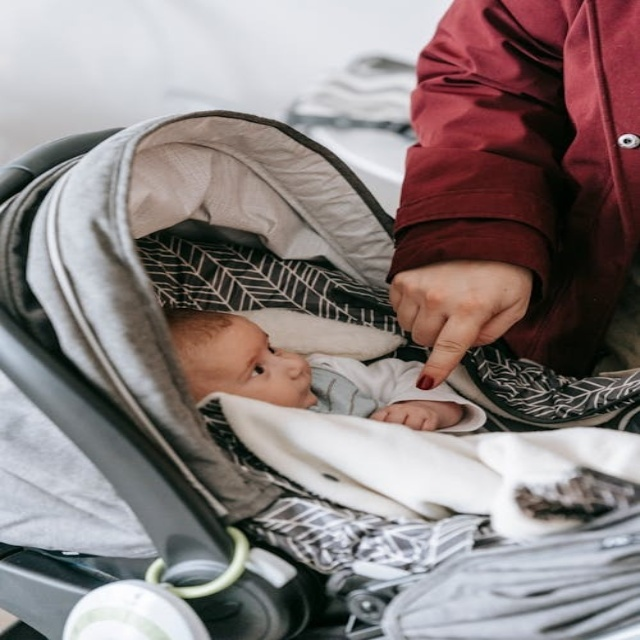Sin_gafas: (233, 328, 280, 384)
Sin_guantes: (389, 259, 533, 391), (368, 401, 457, 432)
Sin_mascara: (291, 369, 316, 404)
